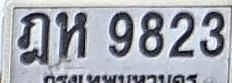2: (169, 10, 195, 57)
3: (200, 10, 225, 57)
8: (140, 11, 164, 57)
9: (109, 11, 134, 56)
A14: (17, 11, 50, 65)
A41: (56, 11, 87, 58)
